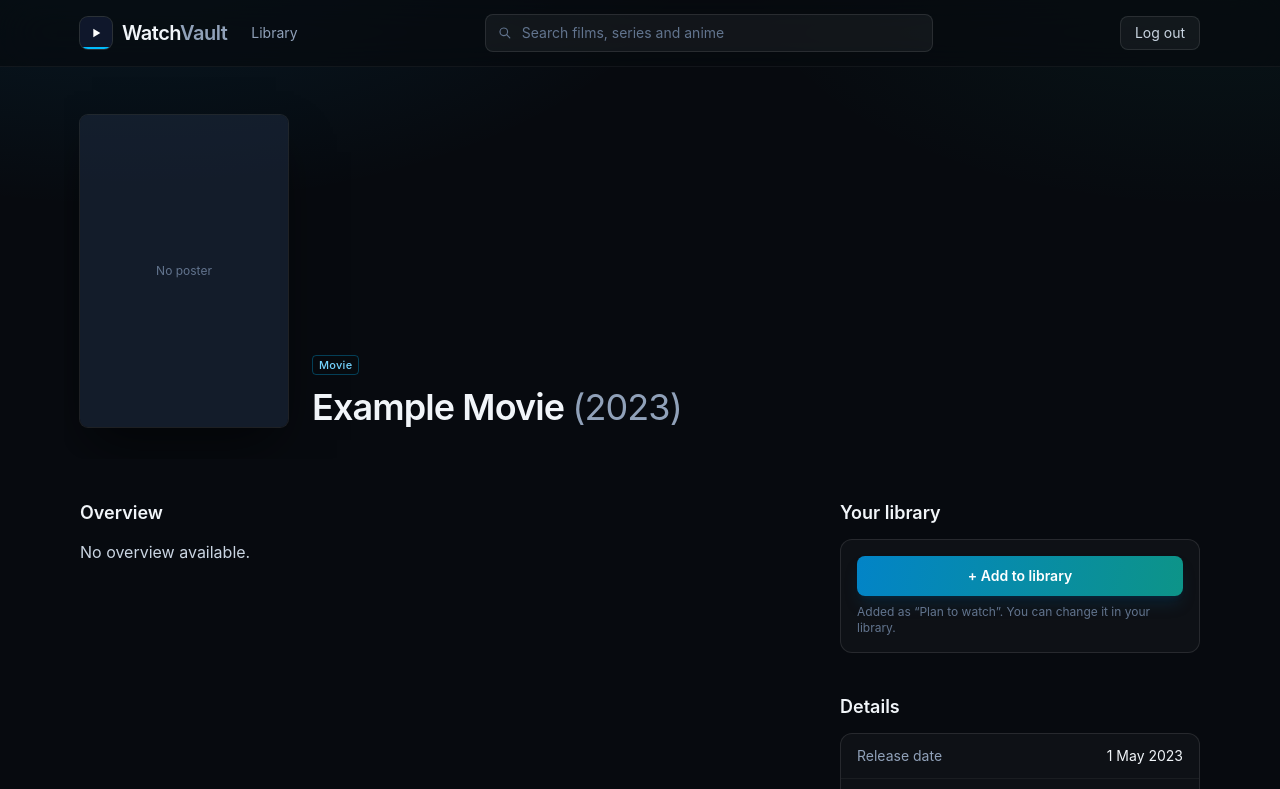
Test: library panel on the title page › offers a single Add button that adds the title as Plan to watch
Step 1. Click the button "+ Add to library" → x=1020, y=576, box x1=857 y1=556 x2=1183 y2=596
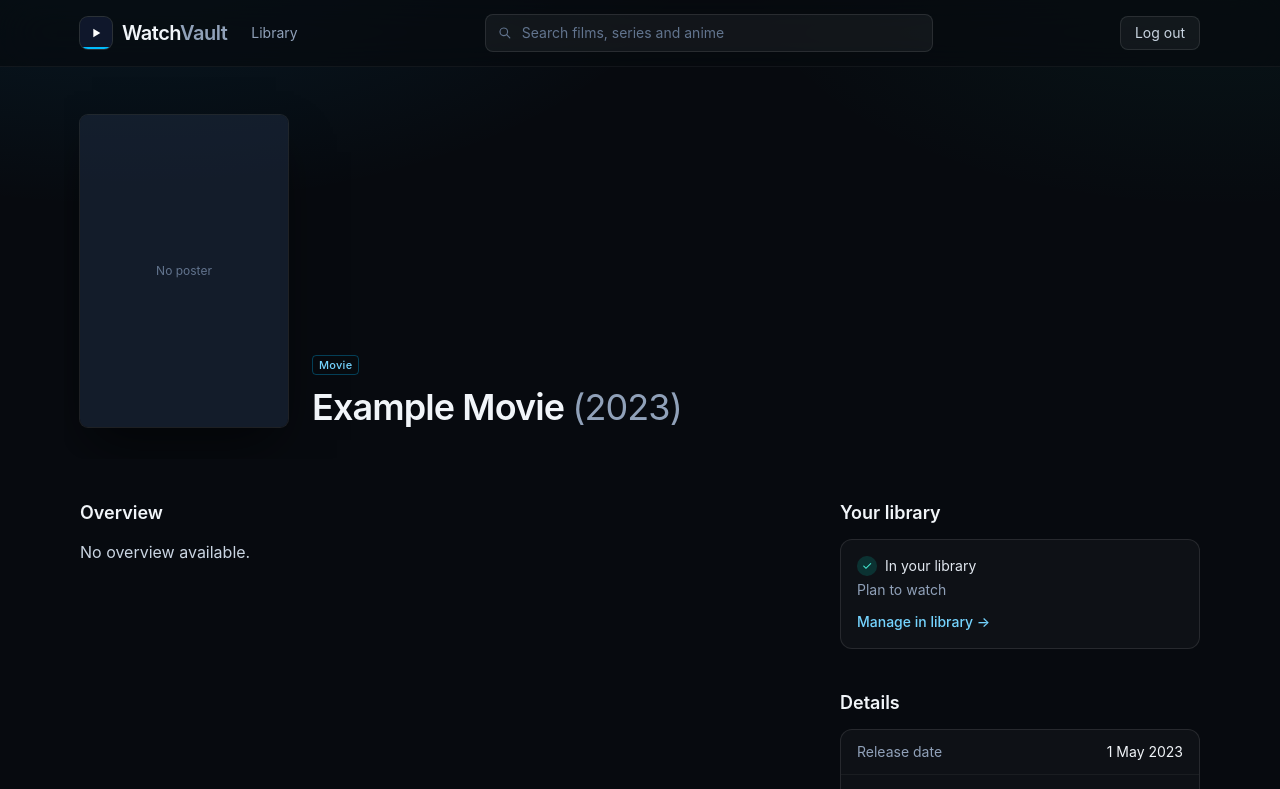
Check: the text "In your library" is shown, box x1=885 y1=557 x2=976 y2=574
